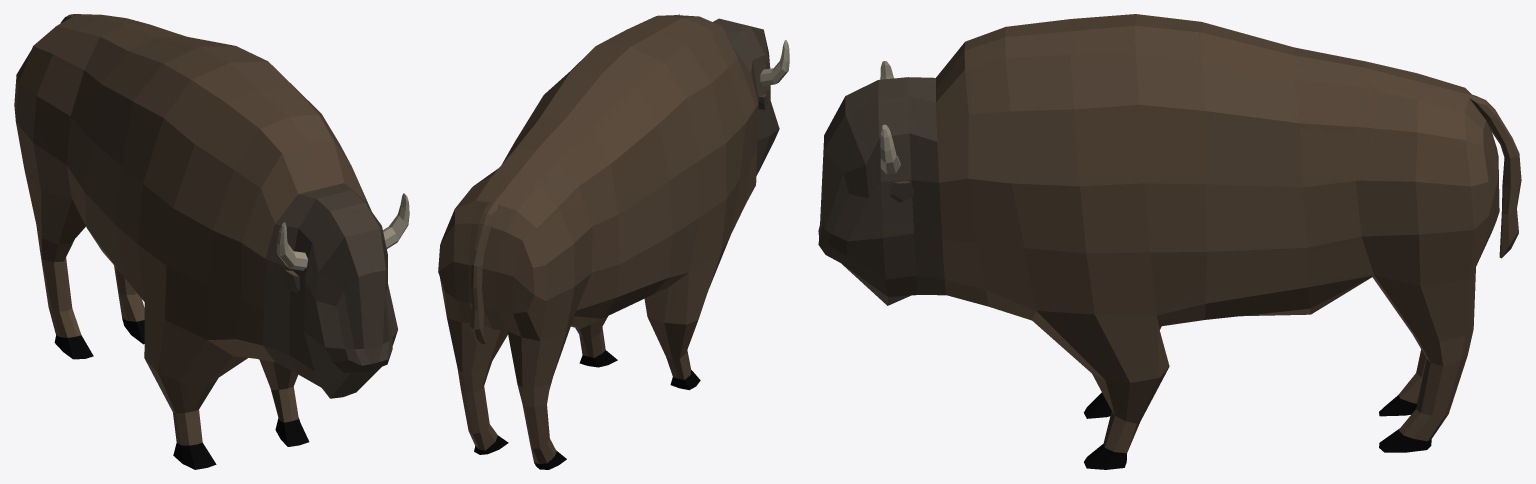
Rendered from Bizon.glb.
3 renders of one model, left to right at view 1: azimuth 30°, elevation 25°; view 2: azimuth 150°, elevation 25°; view 3: azimuth 270°, elevation 25°, orthographic. The views are drawn at different scales.
Parts seen in each view (by area): view 1: 04bizonFinal; view 2: 04bizonFinal; view 3: 04bizonFinal.
Part boxes in pixels (bbox=[...]): 04bizonFinal: bbox=[14, 14, 409, 469]; 04bizonFinal: bbox=[438, 14, 789, 469]; 04bizonFinal: bbox=[818, 14, 1521, 469].
Size of the model in its own units: 1.16 by 2.42 by 3.74.
1 material, 1 textured.
